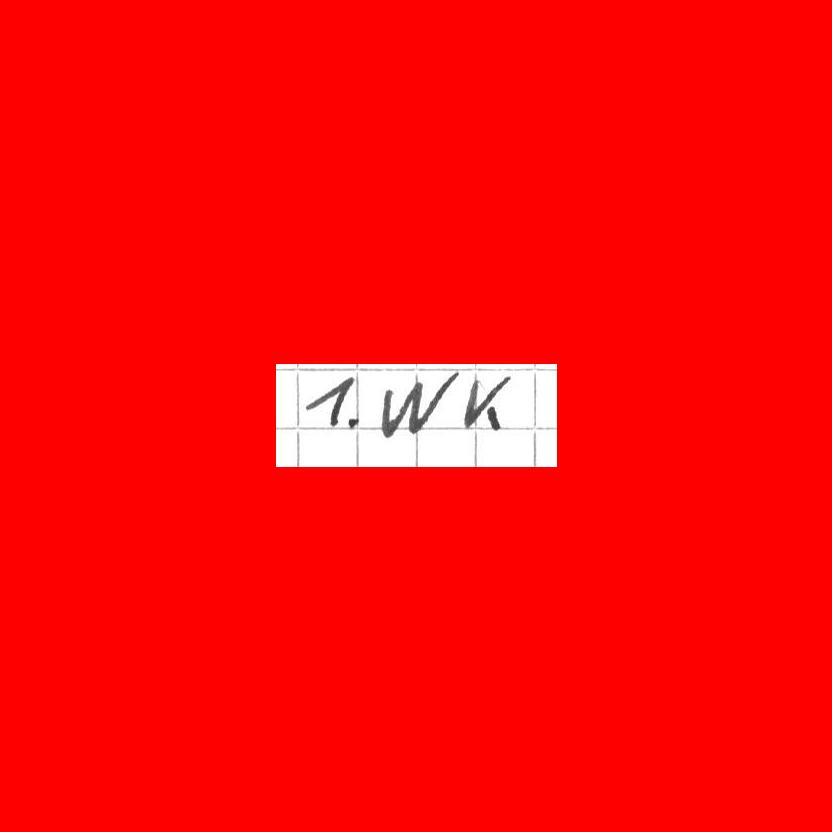Char: (377, 369, 460, 442), (462, 369, 515, 435), (304, 372, 354, 433), (345, 413, 362, 429)
